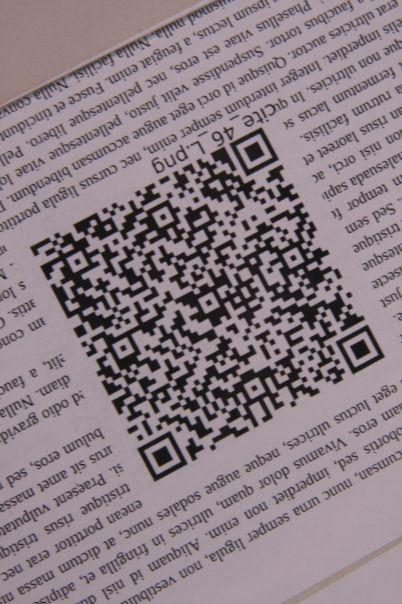Finder pattern: (332, 321, 394, 378), (226, 128, 283, 179), (135, 431, 192, 481)
